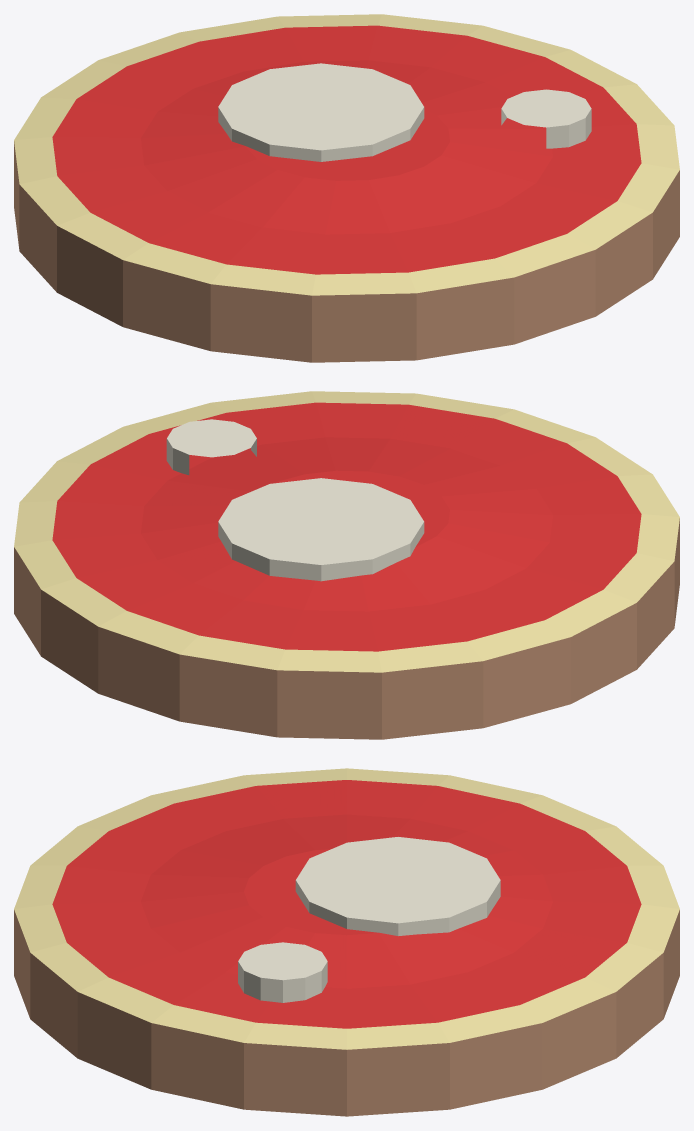
Rendered from cap_knee.glb.
3 views of the same model, one above another, from view 1: azimuth 30°, elevation 25°; view 2: azimuth 150°, elevation 25°; view 3: azimuth 270°, elevation 25° (orthographic).
Parts seen in each view (by area): view 1: OUT; view 2: OUT; view 3: OUT.
Part boxes in pixels (x1,y1,x2,y2): OUT: (14, 14, 679, 362); OUT: (14, 391, 679, 739); OUT: (14, 768, 679, 1116).
Size of the model in its own units: 0.104 by 0.0165 by 0.104.
